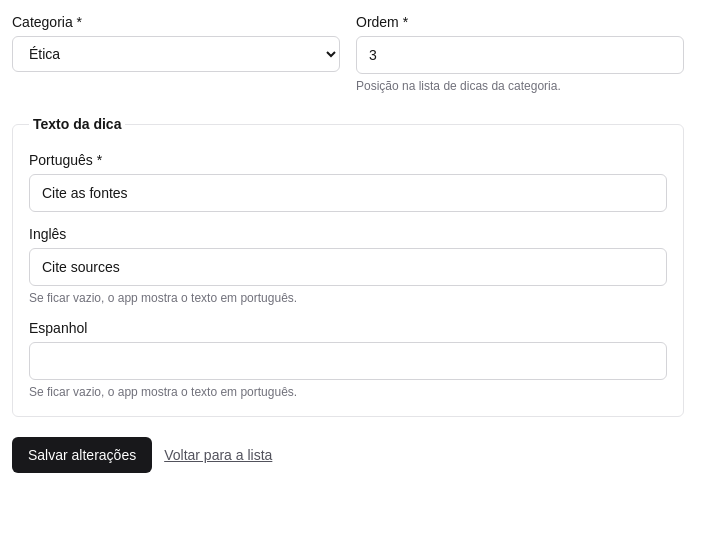
Scenario: TipForm › shows the saved tip and submits it
Expected: the dropdown labelled "Categoria *" shows "Ética", [12, 36, 340, 72]
Expected: the field showing "Cite sources" is shown, [29, 248, 667, 286]
Click the button "Salvar alterações" at x=82, y=455, box [12, 437, 152, 473]
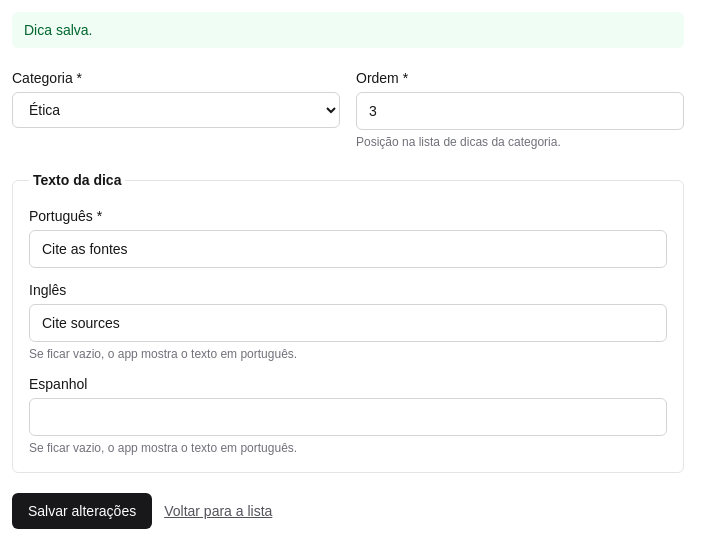
Expected: the message reads "Dica salva.", [24, 22, 92, 38]
